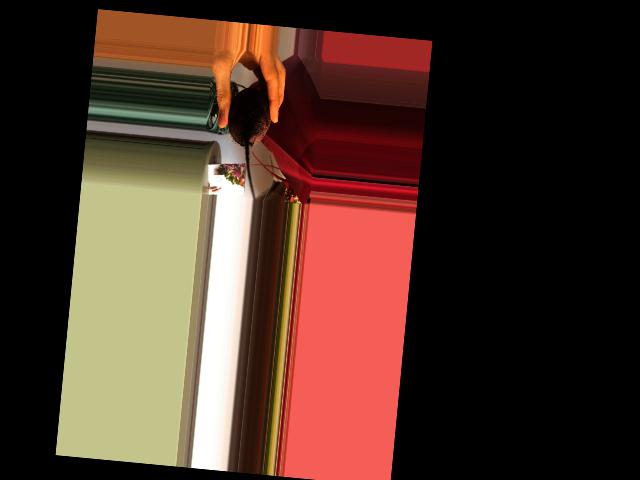beet: (220, 84, 273, 201)
